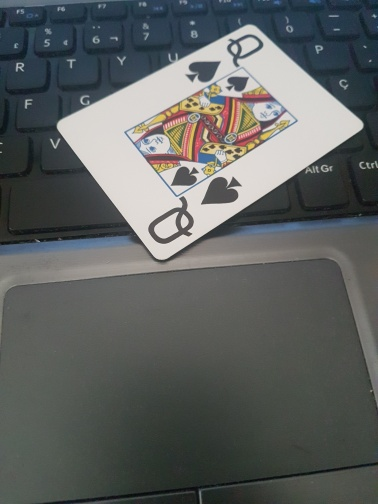queen: (55, 25, 363, 259)
